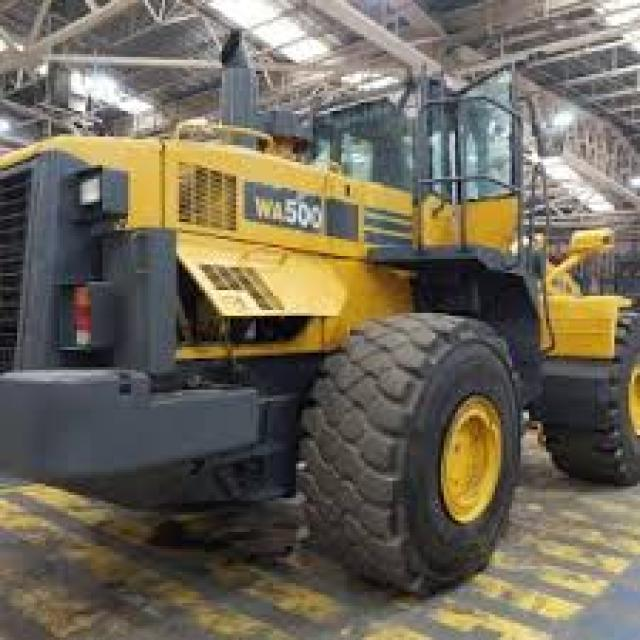buldozerpayloadergrader: (3, 56, 640, 586)
